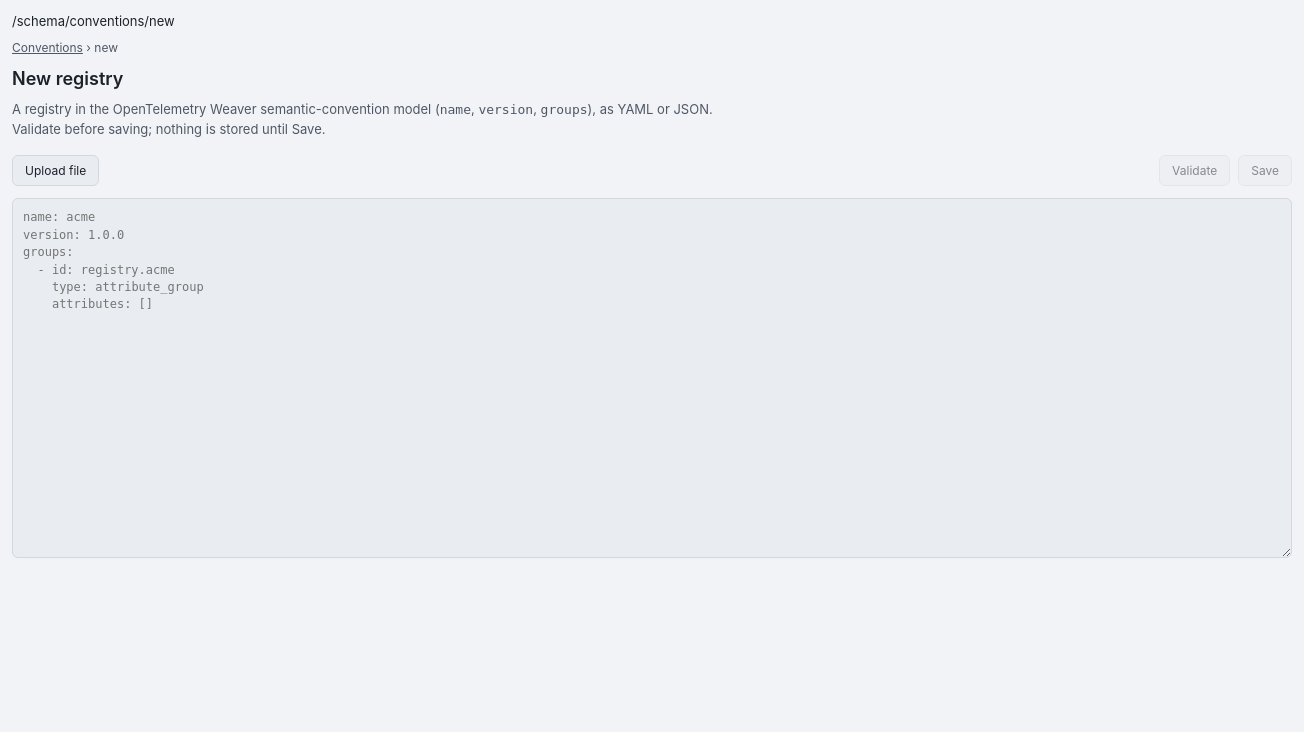
RegistryEditor › shows validation errors at their path and keeps Save blocked
Click the text box named "Registry document" at (652, 378), box [12, 198, 1292, 558]
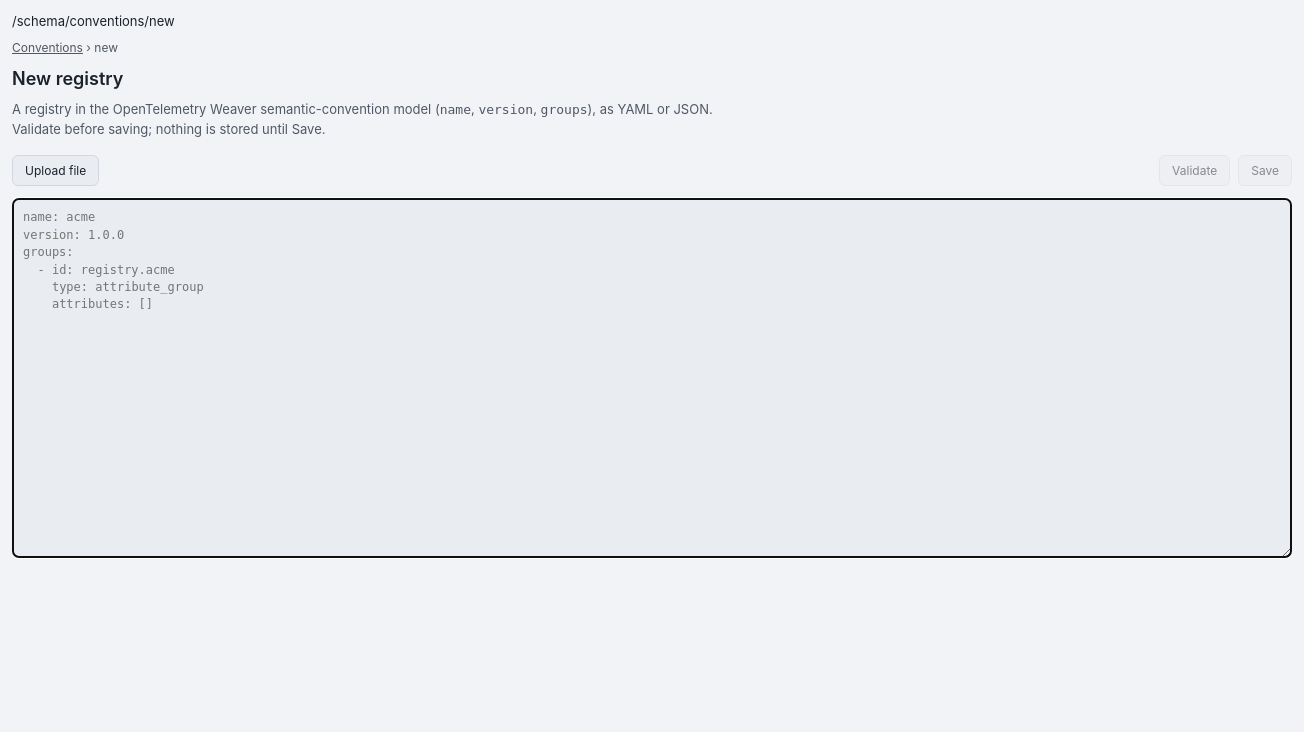
Type keys "name: acme version: 1.0.0 groups:   - id: registry.acme.order     type: attribute_group     brief: Attributes describing an Acme order.     attributes:       - id: acme.order.id         type: string  "
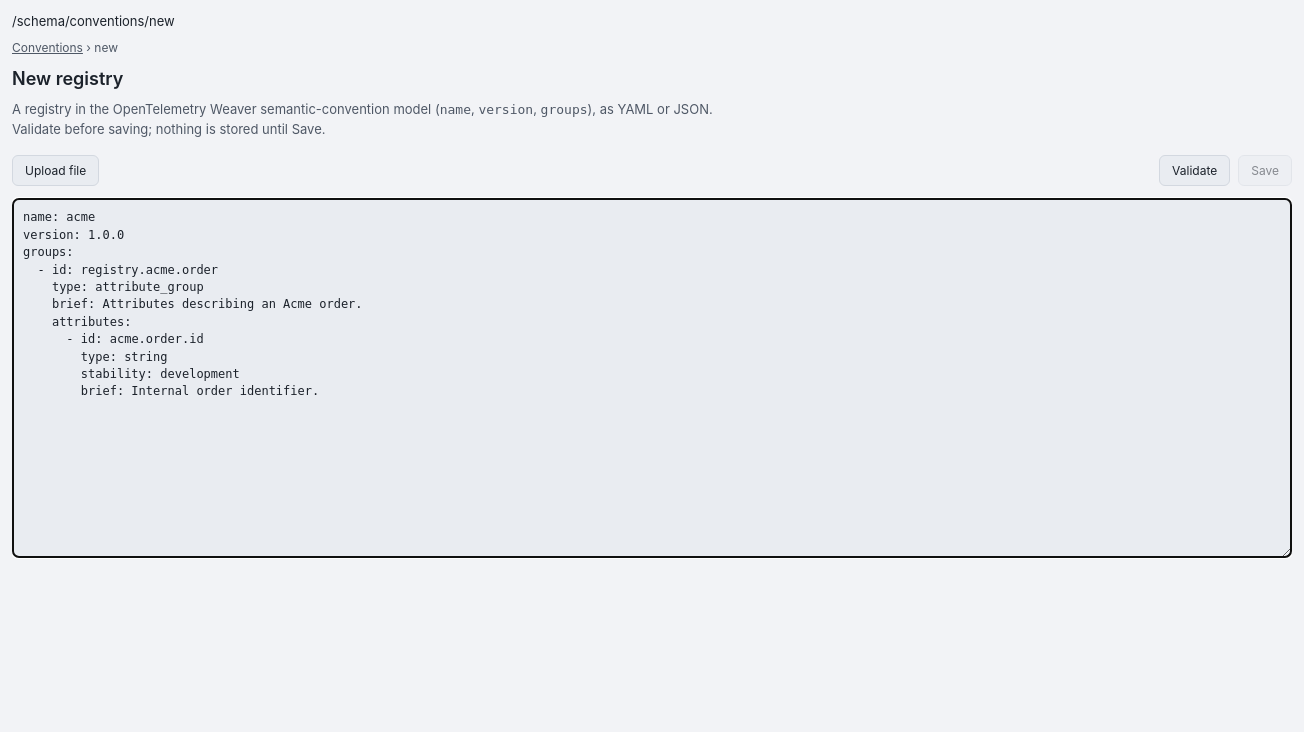
Click the button "Validate" at (1195, 171), box [1159, 155, 1230, 186]
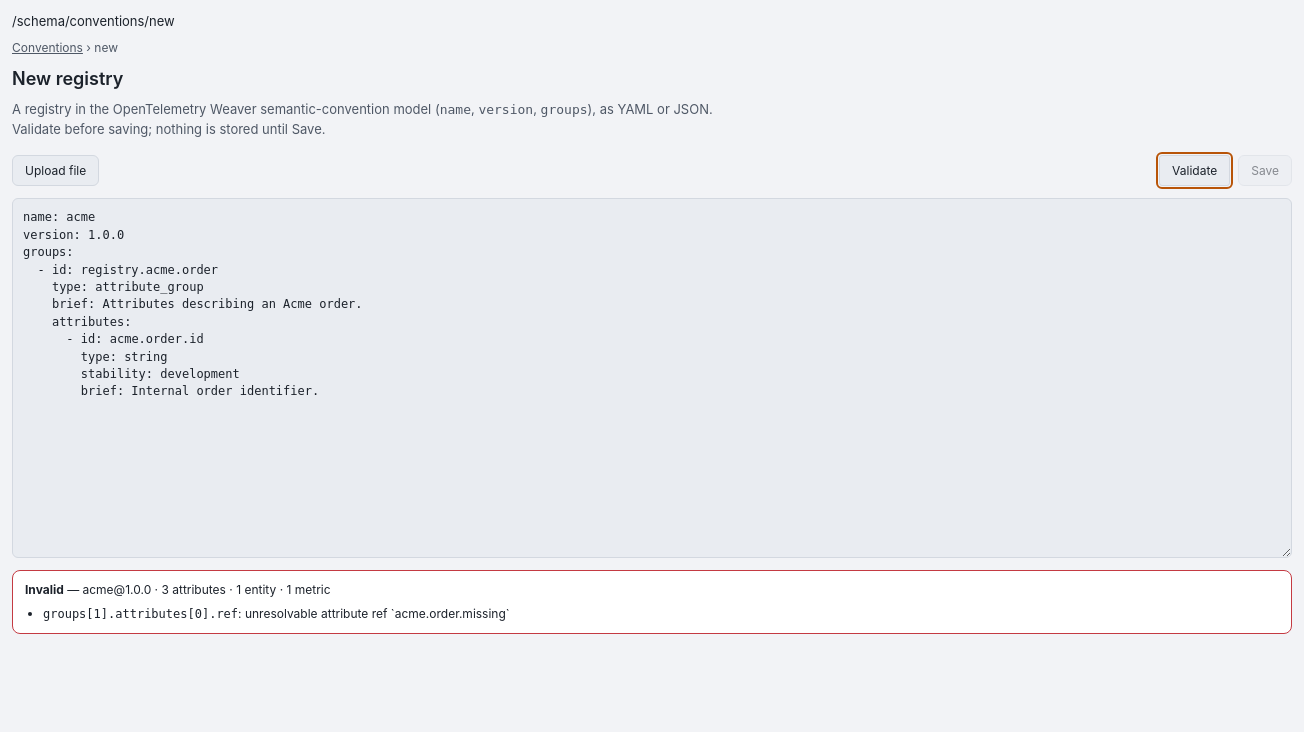
expect the button "Save" is disabled: met, box [1238, 155, 1292, 186]
expect the message shows "groups[1].attributes[0].ref": met, box [43, 607, 238, 621]
expect the message shows "unresolvable attribute ref `acme.order.missing`": met, box [245, 606, 510, 621]
